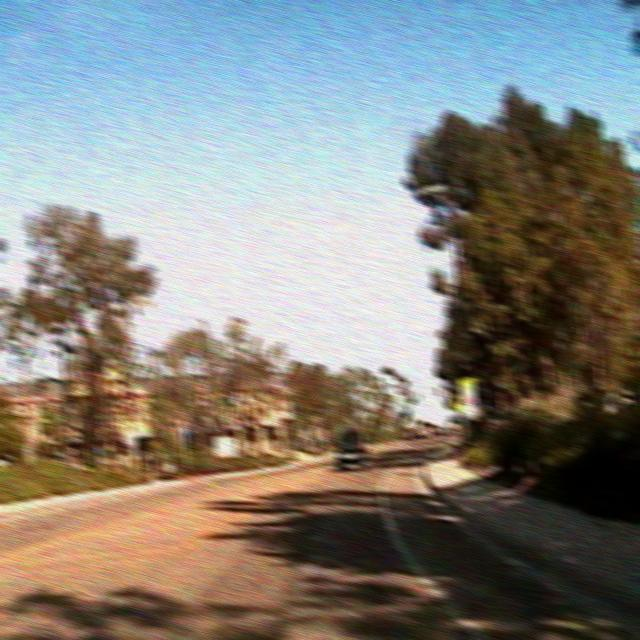speedLimit25: (457, 376, 478, 417)
